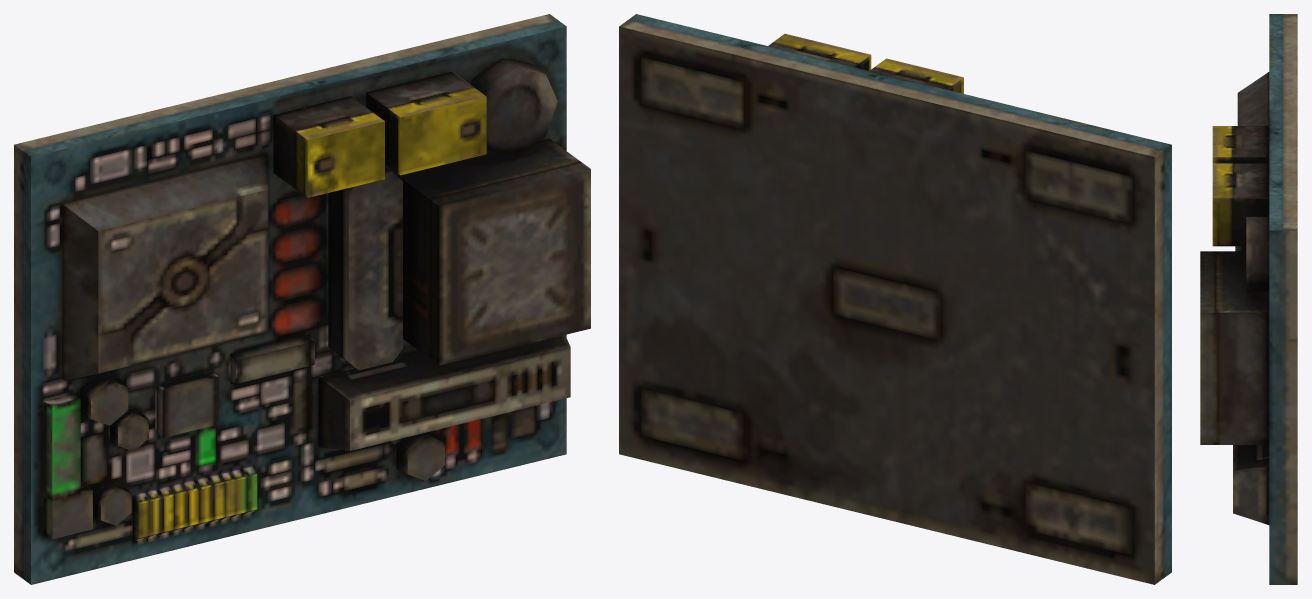
File: circuit_board.DAE
3 views of the same model, side by side, from view 1: azimuth 30°, elevation 25°; view 2: azimuth 150°, elevation 25°; view 3: azimuth 270°, elevation 25° (orthographic). The views are drawn at different scales.
Parts seen in each view (by area): view 1: circuit_board; view 2: circuit_board; view 3: circuit_board.
Part boxes in pixels (x1=…): circuit_board: x1=14, y1=14, x2=590, y2=584; circuit_board: x1=619, y1=14, x2=1171, y2=584; circuit_board: x1=1200, y1=14, x2=1297, y2=584.
Bounding box in the file's own units: 0.5016 × 0.0954 × 0.3827.
